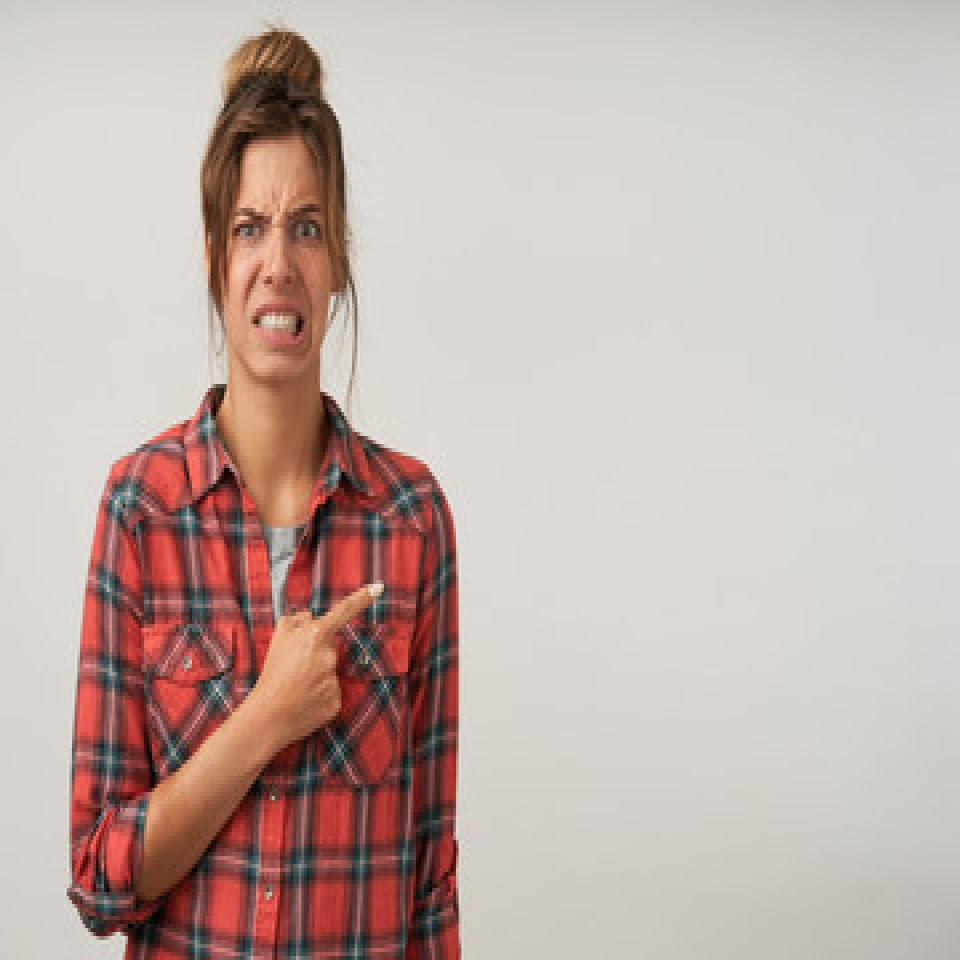Disgust: (222, 160, 332, 380)
